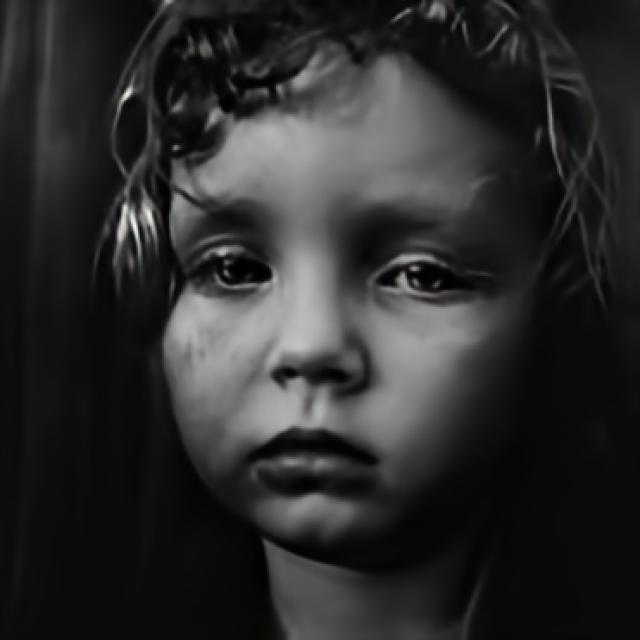sad: (157, 39, 551, 560)
